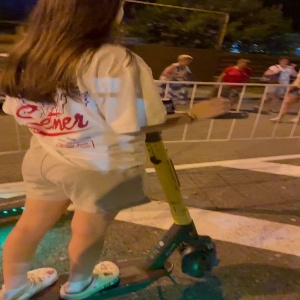human on a scooter: (1, 1, 252, 300)
